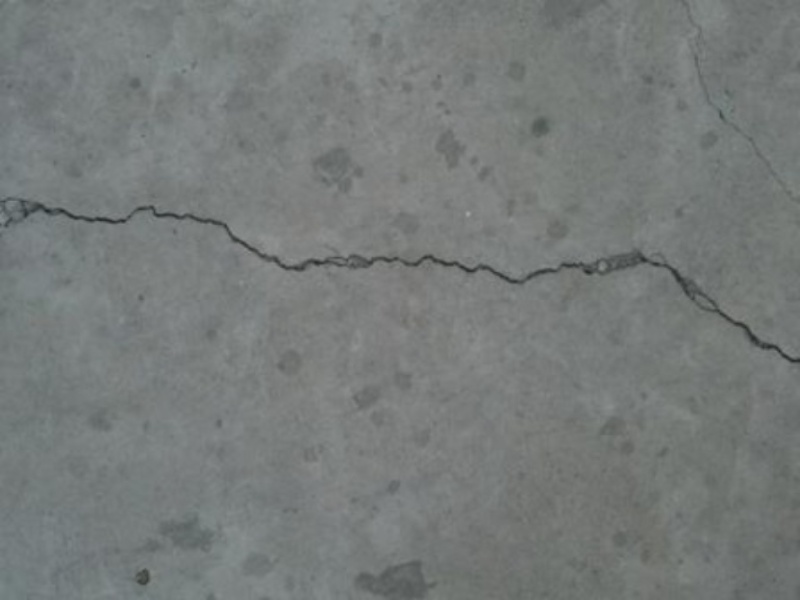crack: (8, 166, 794, 372)
